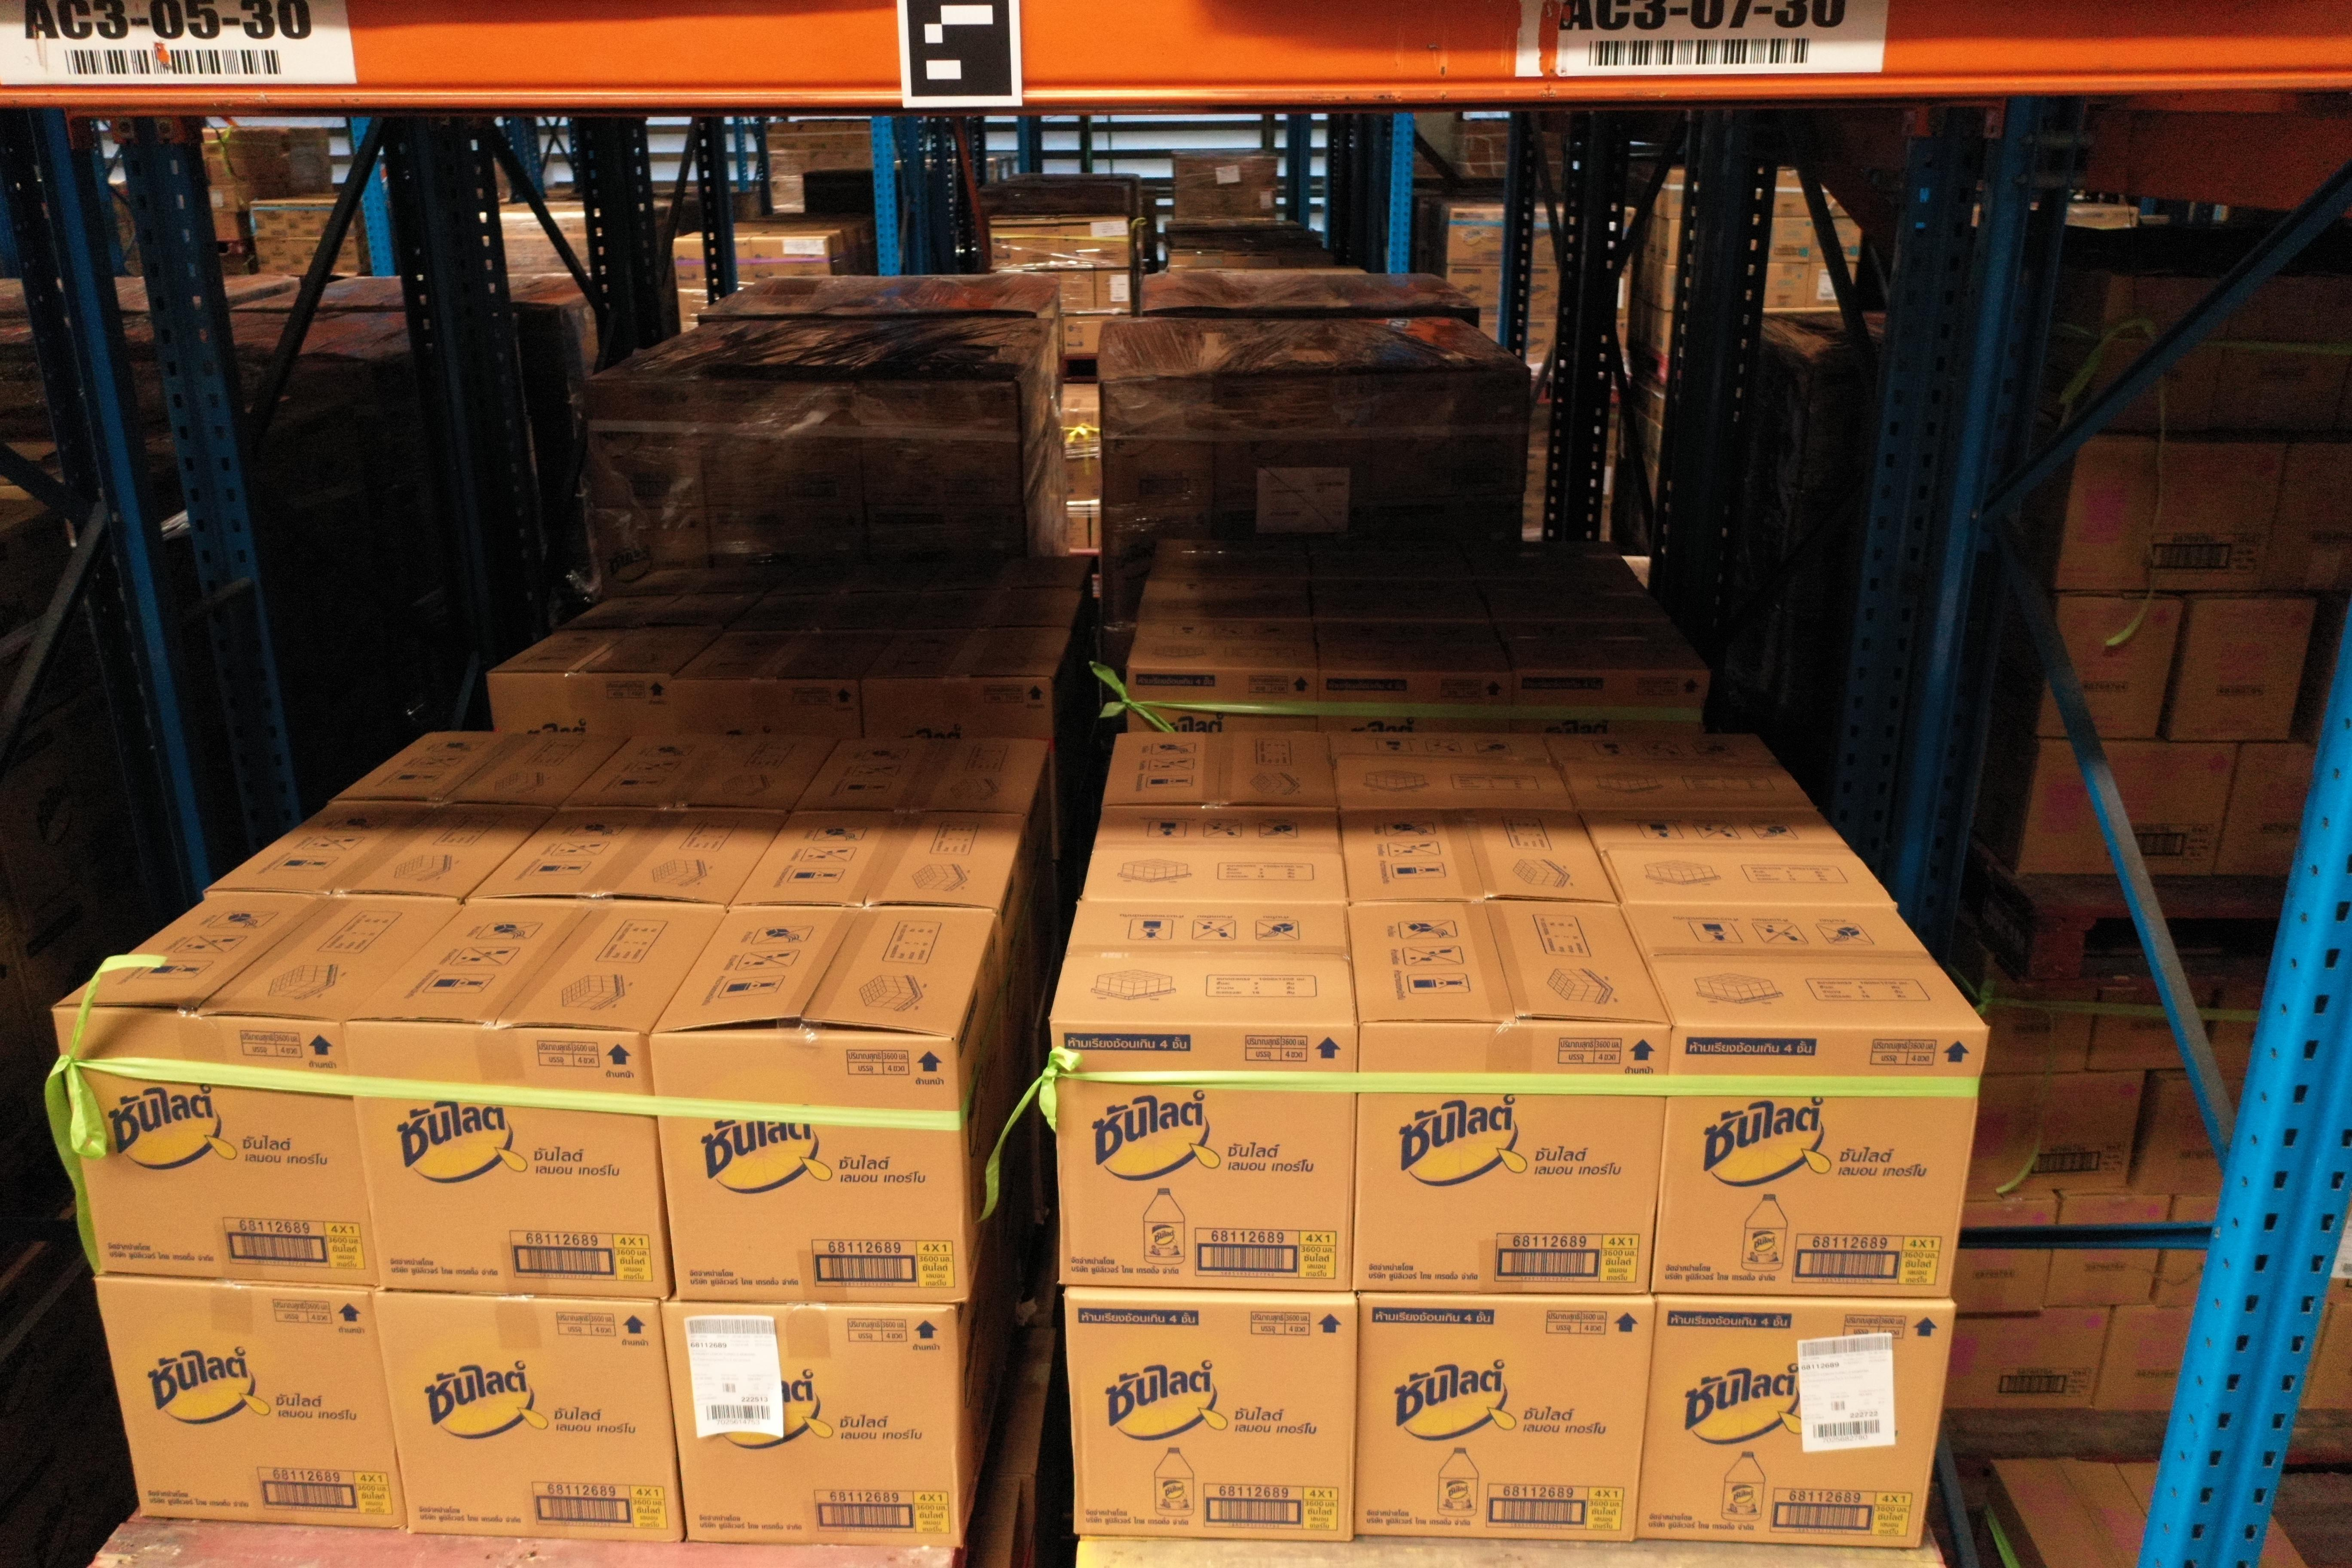-: (54, 1006, 383, 1293), (341, 1018, 670, 1300), (1347, 1018, 1676, 1298), (1655, 1025, 1990, 1300), (647, 1031, 971, 1307), (1627, 1298, 1958, 1552), (1052, 1018, 1358, 1291), (367, 1288, 688, 1545), (93, 1272, 404, 1533), (1064, 1293, 1363, 1543), (658, 1300, 961, 1547), (1354, 1293, 1650, 1543)
2: (857, 380, 1024, 520), (1221, 369, 1384, 509), (700, 374, 866, 511), (1382, 367, 1533, 513), (583, 376, 707, 511), (1101, 376, 1225, 509)
box: (2054, 436, 2285, 595), (2014, 733, 2240, 878), (2079, 269, 2240, 437), (2214, 278, 2352, 443), (1967, 1071, 2145, 1195), (2163, 597, 2312, 745), (2039, 595, 2180, 745), (1944, 1305, 2110, 1412), (1979, 955, 2098, 1080), (2215, 744, 2320, 880), (2264, 439, 2352, 593), (2046, 1195, 2166, 1305), (2135, 1081, 2243, 1195), (1953, 1200, 2060, 1312), (2086, 985, 2214, 1074), (2091, 1302, 2196, 1410)
